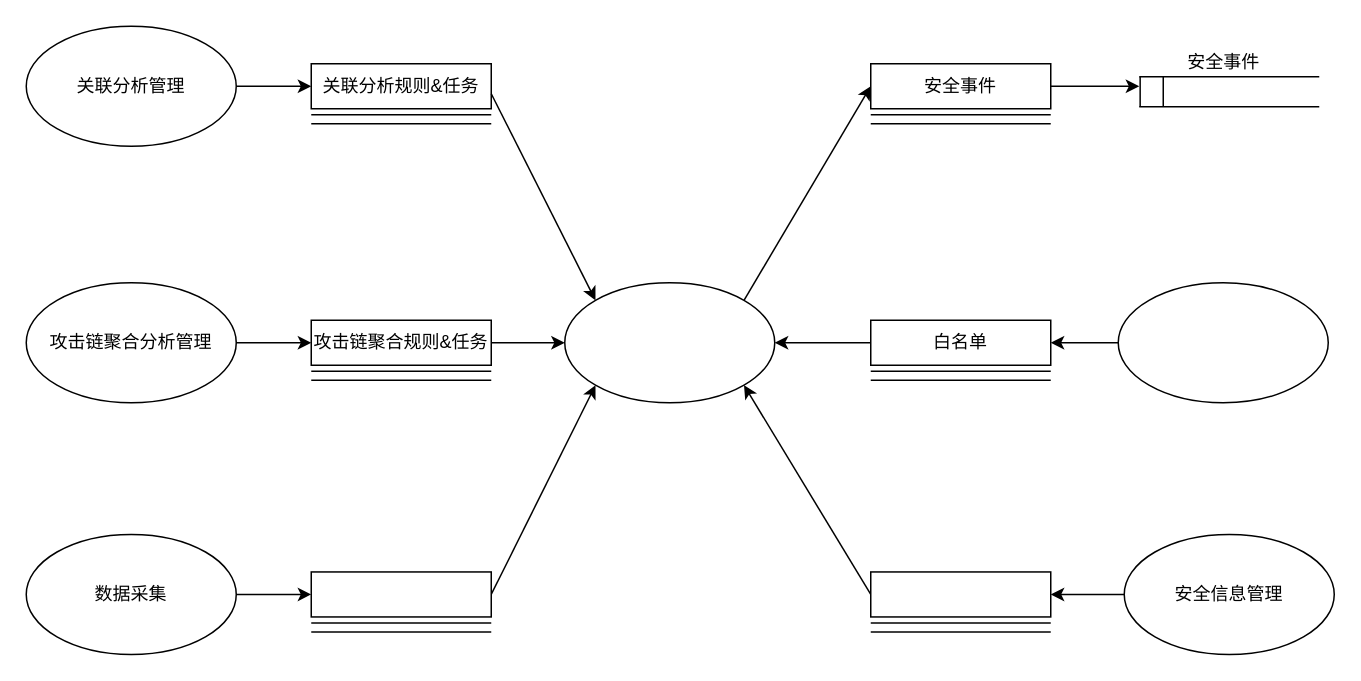
The diagram is 1361 pixels wide and 681 high, and some of its shapes have lost their labels. The shapes that lost their labels are listed below. From the top down, each one's centre as x and y in pixels, then its label:
(x=669, y=342): 溯源事件分析
(x=1222, y=342): 白名单管理
(x=400, y=593): 原始日志
(x=960, y=593): 安全信息
